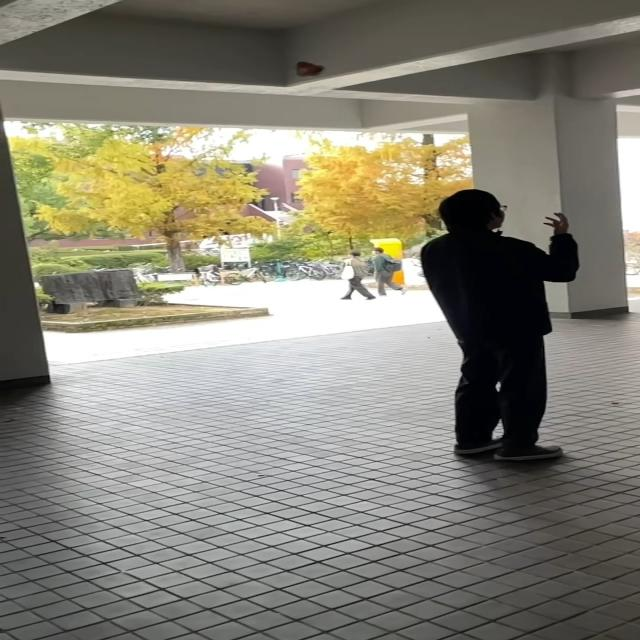paper: (292, 60, 326, 81)
